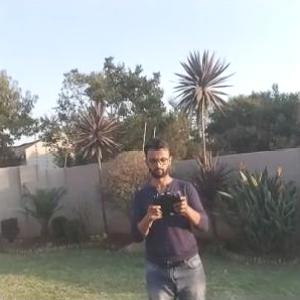follow: (126, 128, 218, 299)
